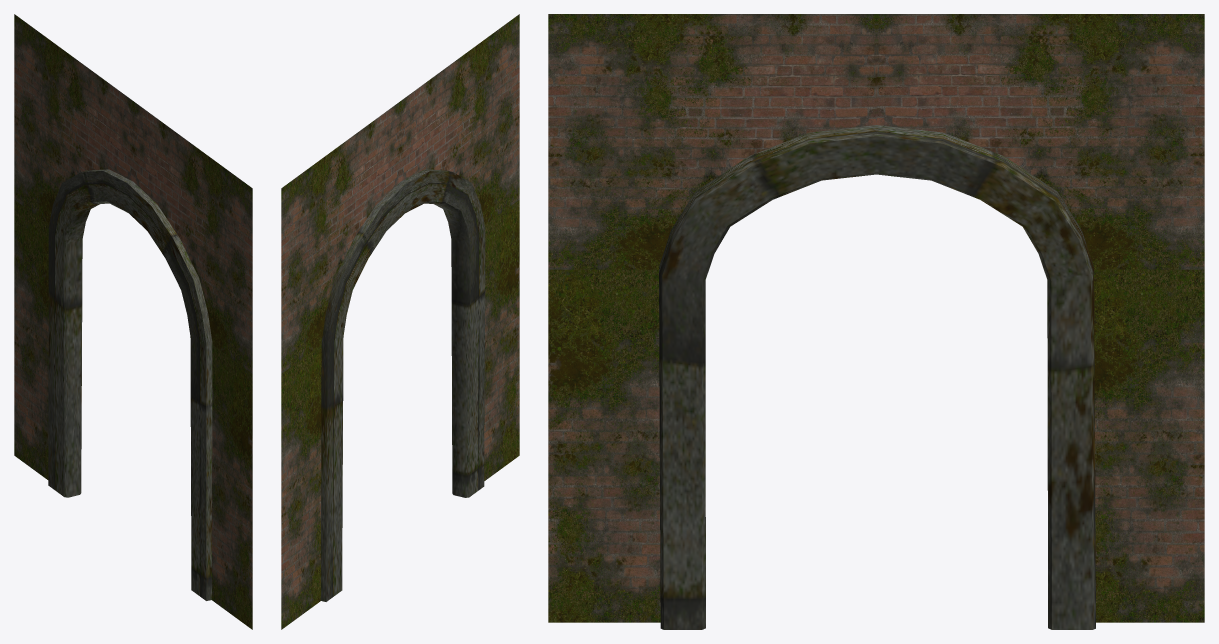
The model's file is ExitWall.FBX.
3 renders of one model, left to right at view 1: azimuth 30°, elevation 25°; view 2: azimuth 150°, elevation 25°; view 3: azimuth 270°, elevation 25°, orthographic. The views are drawn at different scales.
Parts seen in each view (by area): view 1: ExitWall; view 2: ExitWall; view 3: ExitWall.
Boxes of the visible parts, bbox=[...] form: ExitWall: bbox=[14, 14, 252, 629]; ExitWall: bbox=[281, 14, 519, 629]; ExitWall: bbox=[548, 14, 1204, 629].
Size of the model in its own units: 23.17 by 512 by 500.
